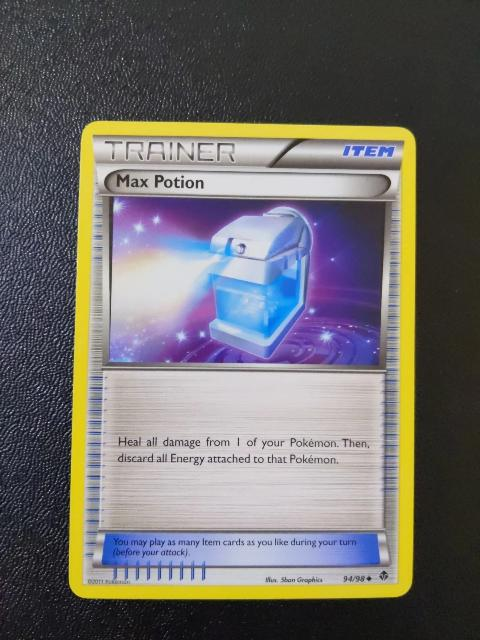Card: (64, 119, 417, 602)
Name: (103, 164, 216, 194)
